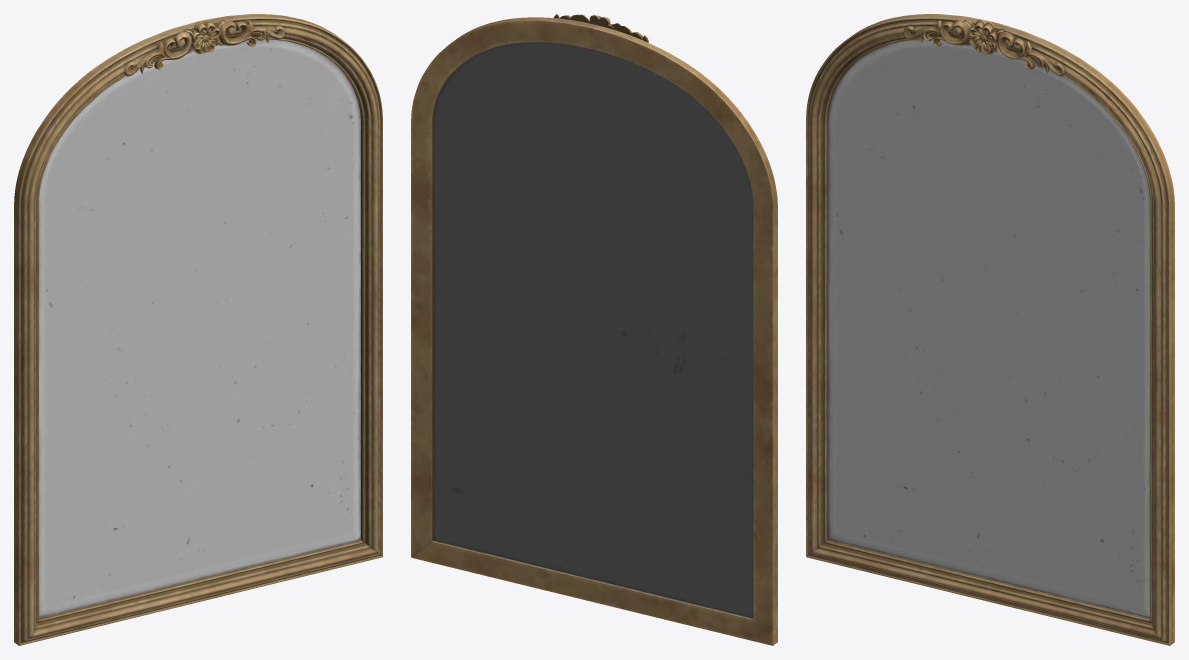
Rendered from ornate_mirror_01.glb.
The picture shows the model from 3 angles, left to right: view 1: azimuth 30°, elevation 25°; view 2: azimuth 150°, elevation 25°; view 3: azimuth 330°, elevation 25°; orthographic projection.
Visible parts, largest first — view 1: ornate_mirror_01; view 2: ornate_mirror_01; view 3: ornate_mirror_01.
Boxes of the visible parts, bbox=[...] form: ornate_mirror_01: bbox=[14, 14, 382, 645]; ornate_mirror_01: bbox=[411, 14, 777, 645]; ornate_mirror_01: bbox=[806, 14, 1174, 645].
Bounding box in the file's own units: 0.4865 × 0.7442 × 0.026.
1 material, 1 textured.
